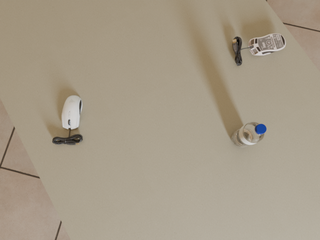bottle: (231, 122, 266, 148)
mouse: (249, 34, 286, 55), (62, 96, 82, 130)
